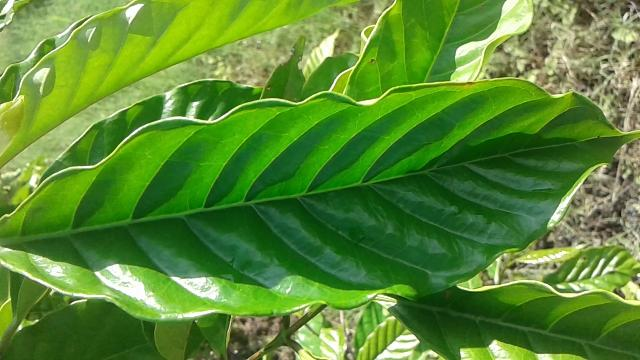healthy: (0, 80, 638, 322)
